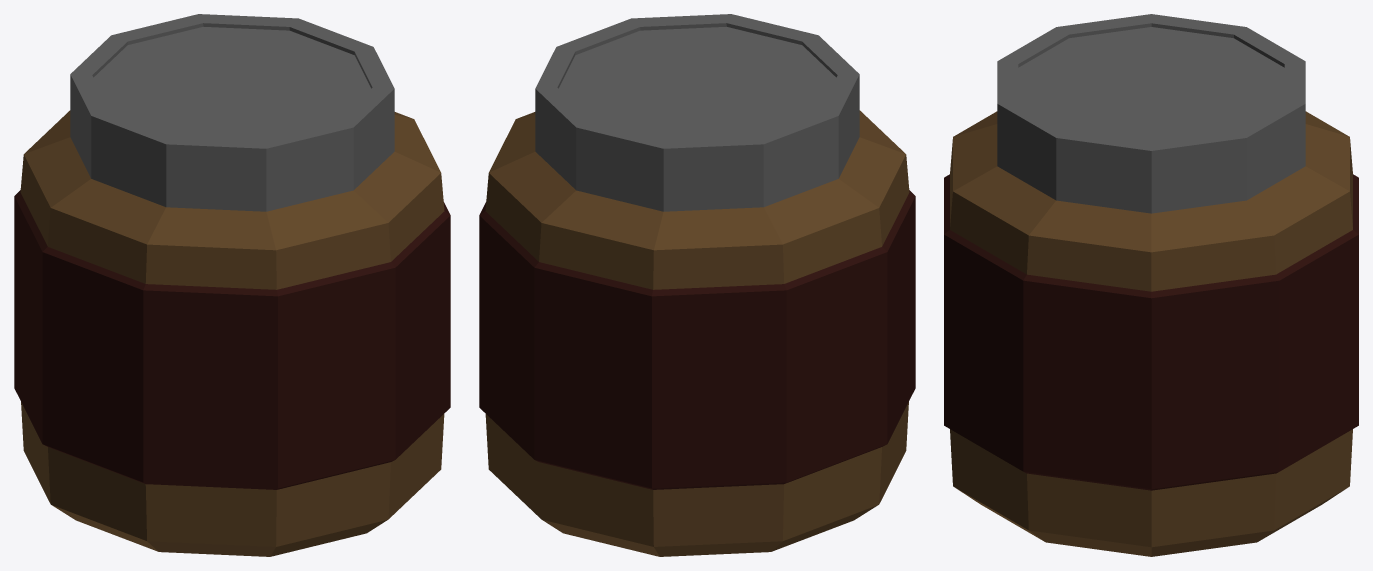
The model's file is Jar_Large.obj.
3 views of the same model, side by side, from view 1: azimuth 30°, elevation 25°; view 2: azimuth 150°, elevation 25°; view 3: azimuth 270°, elevation 25° (orthographic).
Parts seen in each view (by area): view 1: Jar_Large_Cylinder.043; view 2: Jar_Large_Cylinder.043; view 3: Jar_Large_Cylinder.043.
Boxes of the visible parts, left/top/right/bottom form: Jar_Large_Cylinder.043: left=14, top=14, right=450, bottom=556; Jar_Large_Cylinder.043: left=479, top=14, right=915, bottom=556; Jar_Large_Cylinder.043: left=944, top=14, right=1358, bottom=556.
Size of the model in its own units: 0.6332 by 0.6384 by 0.6022.
